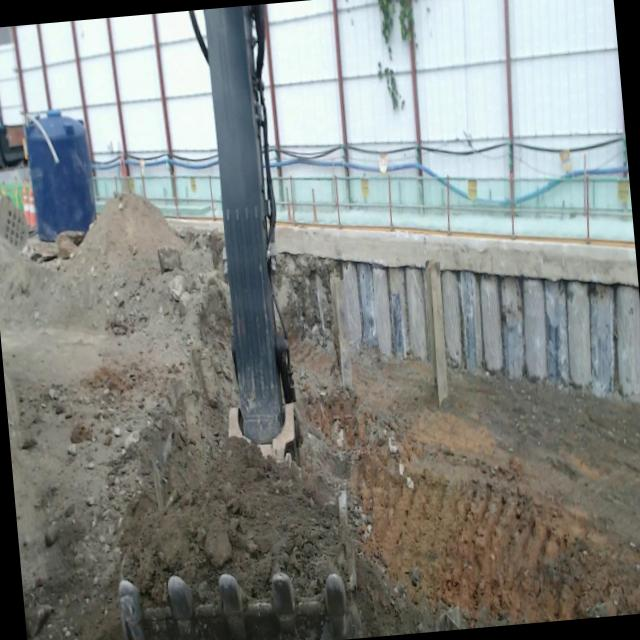cement: (276, 224, 638, 286)
red-sand: (0, 196, 640, 640)
stone: (22, 230, 85, 262)
